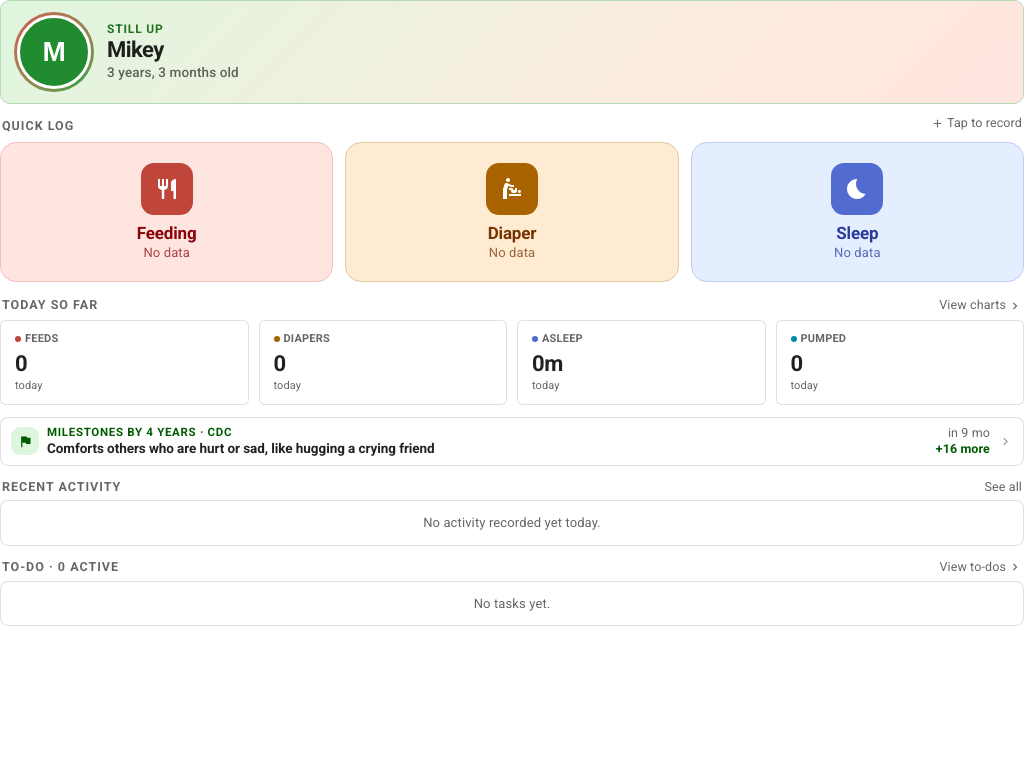
Test: Dashboard – quick action buttons › opens the quick-log diaper dialog when the Diaper button is clicked
Step 1. Click the button "Diaper No data" → (512, 212), box [345, 142, 679, 282]
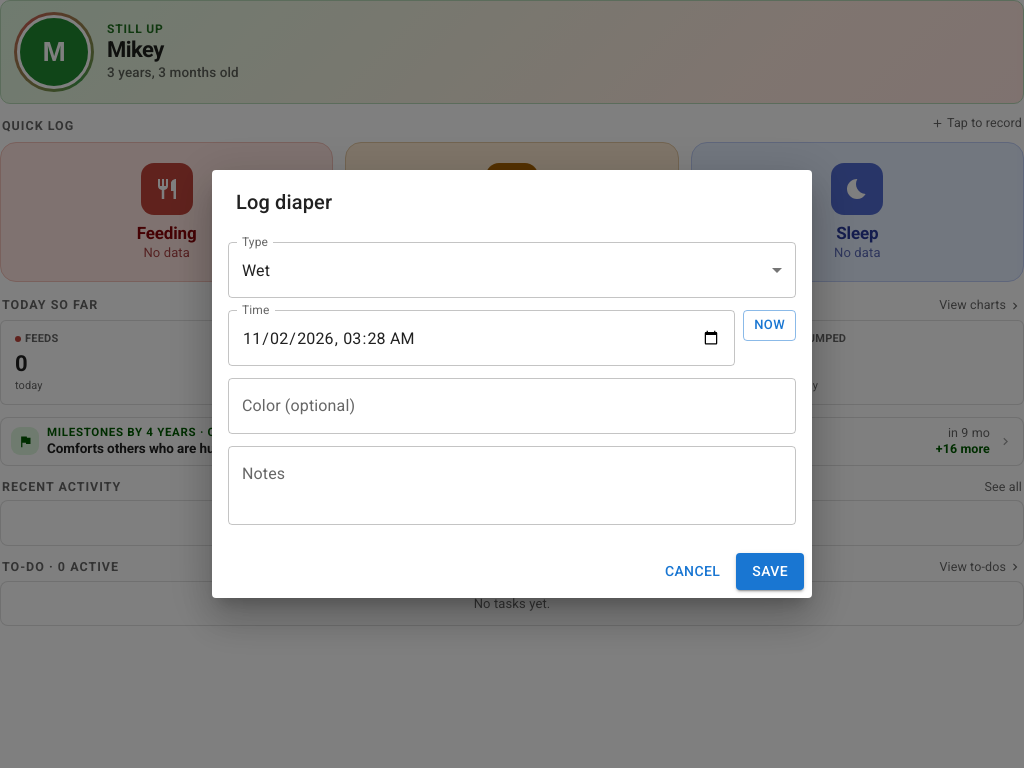
Expected: the dialog is shown, [212, 170, 812, 598]
Expected: the heading "Log diaper" is shown, [236, 190, 332, 214]
